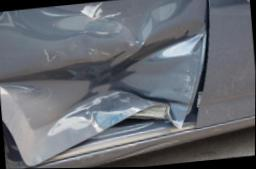Door: (0, 0, 205, 149)
